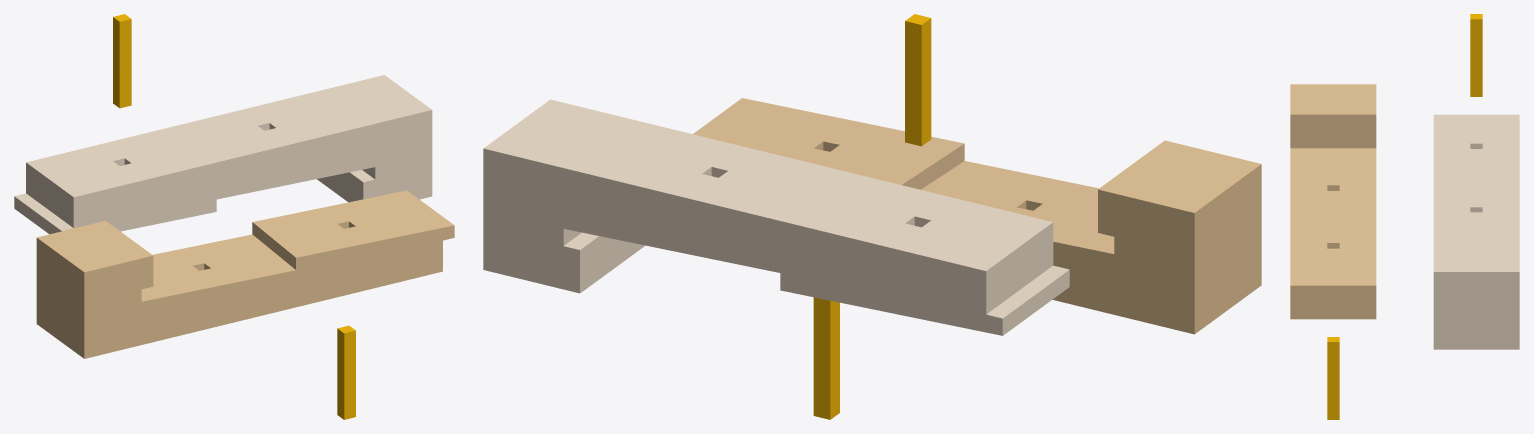
The picture shows the model from 3 angles, left to right: view 1: azimuth 30°, elevation 25°; view 2: azimuth 150°, elevation 25°; view 3: azimuth 270°, elevation 25°; orthographic projection. The views are drawn at different scales.
Size of the model in its own units: 0.6 by 0.5032 by 0.3097.
